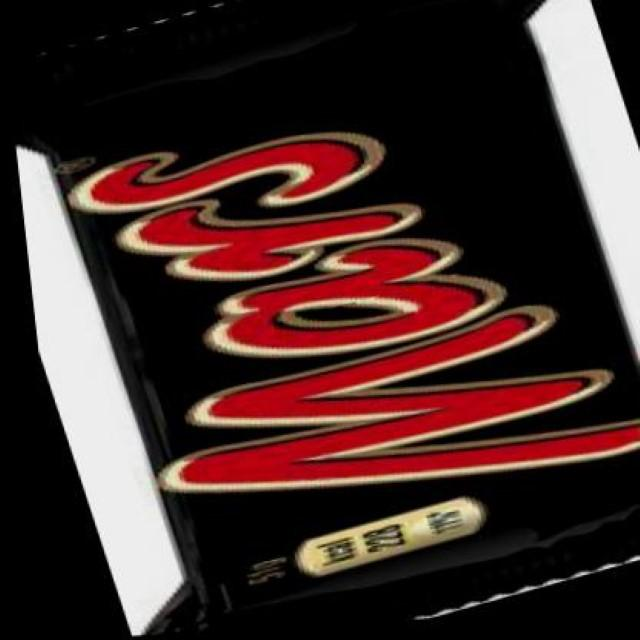mars_chocolate: (74, 10, 588, 640)
